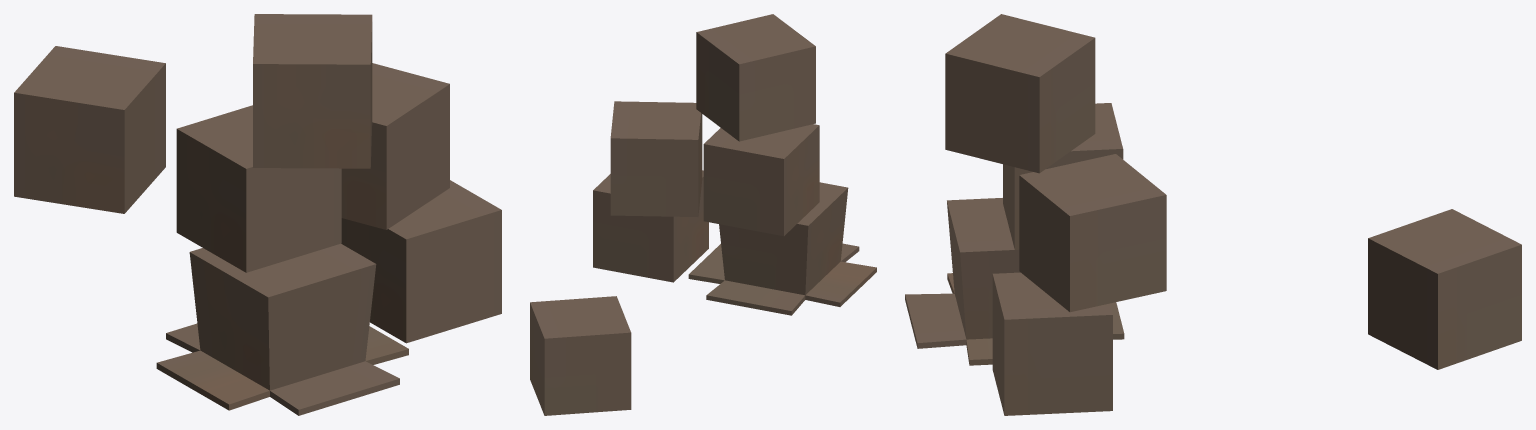
The model's file is box_pile_L.fbx.
3 renders of one model, left to right at view 1: azimuth 30°, elevation 25°; view 2: azimuth 150°, elevation 25°; view 3: azimuth 270°, elevation 25°, orthographic. The views are drawn at different scales.
Visible parts, largest first — view 1: box_pile_L; view 2: box_pile_L; view 3: box_pile_L.
Boxes of the visible parts, x1=… form: box_pile_L: x1=14, y1=14, x2=501, y2=415; box_pile_L: x1=530, y1=14, x2=876, y2=415; box_pile_L: x1=905, y1=14, x2=1521, y2=415.
Bounding box in the file's own units: 249 × 236 × 457.
